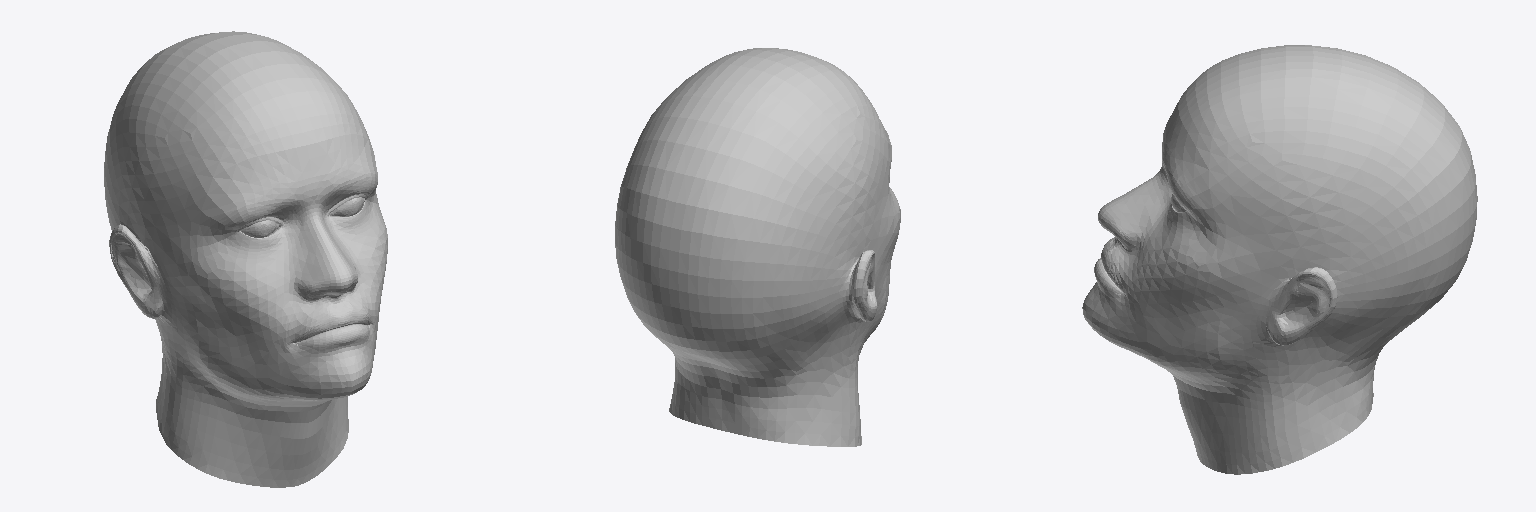
3 renders of one model, left to right at view 1: azimuth 30°, elevation 25°; view 2: azimuth 150°, elevation 25°; view 3: azimuth 270°, elevation 25°, orthographic.
Parts seen in each view (by area): view 1: FaceGen; view 2: FaceGen; view 3: FaceGen.
Boxes of the visible parts, <box> form: FaceGen: <box>104,31,387,487</box>; FaceGen: <box>615,48,900,446</box>; FaceGen: <box>1082,45,1477,474</box>.
Bounding box in the file's own units: 178 × 280 × 251.